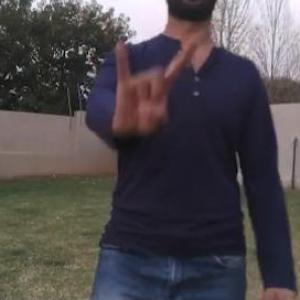takeoff-hand: (96, 23, 204, 140)
